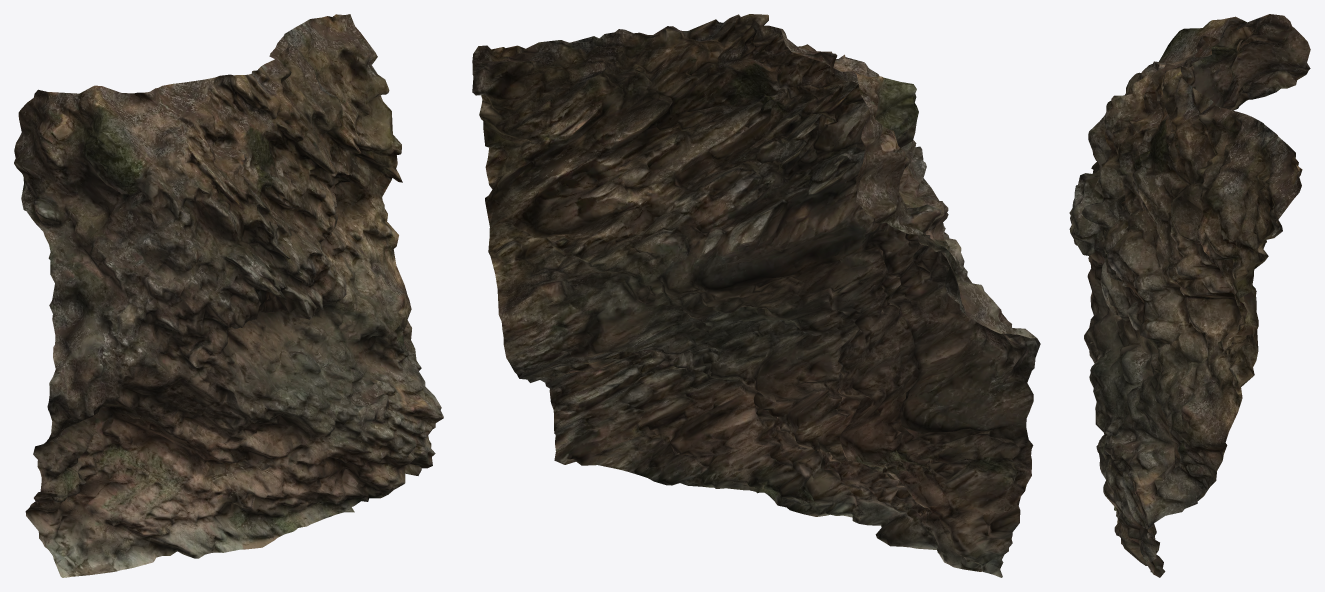
File: mountainside.glb
3 renders of one model, left to right at view 1: azimuth 30°, elevation 25°; view 2: azimuth 150°, elevation 25°; view 3: azimuth 270°, elevation 25°, orthographic. The views are drawn at different scales.
Visible parts, largest first — view 1: mountainside; view 2: mountainside; view 3: mountainside.
Part boxes in pixels (left/top/right/bottom): mountainside: left=14, top=14, right=443, bottom=577; mountainside: left=472, top=14, right=1040, bottom=577; mountainside: left=1069, top=14, right=1310, bottom=577.
Bounding box in the file's own units: 10.21 × 10.52 × 5.25.
1 material, 1 textured.
